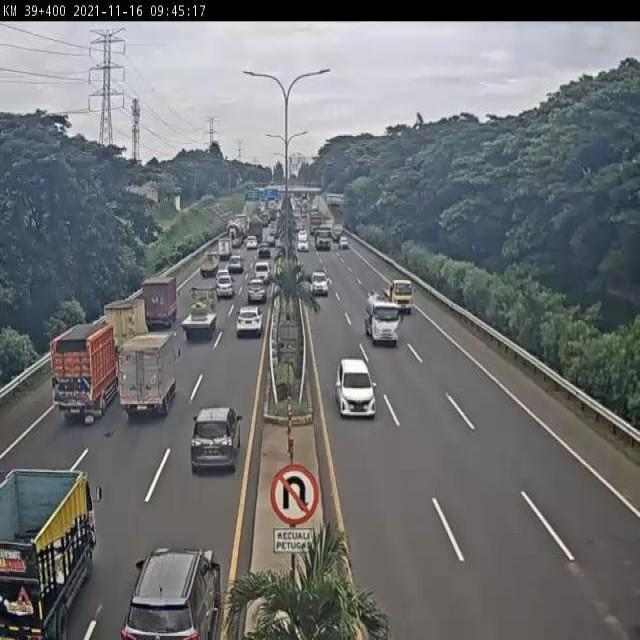car: (190, 408, 241, 472), (336, 357, 376, 419), (234, 314, 262, 346), (243, 288, 266, 319), (308, 270, 329, 298), (212, 277, 232, 303), (253, 261, 272, 287), (226, 253, 245, 276)
small truck: (114, 341, 172, 423), (99, 303, 144, 361), (136, 278, 175, 334), (364, 295, 399, 345), (382, 280, 415, 315), (197, 251, 219, 277)
truck-m-: (0, 462, 102, 640), (48, 325, 116, 428), (178, 286, 216, 342)
